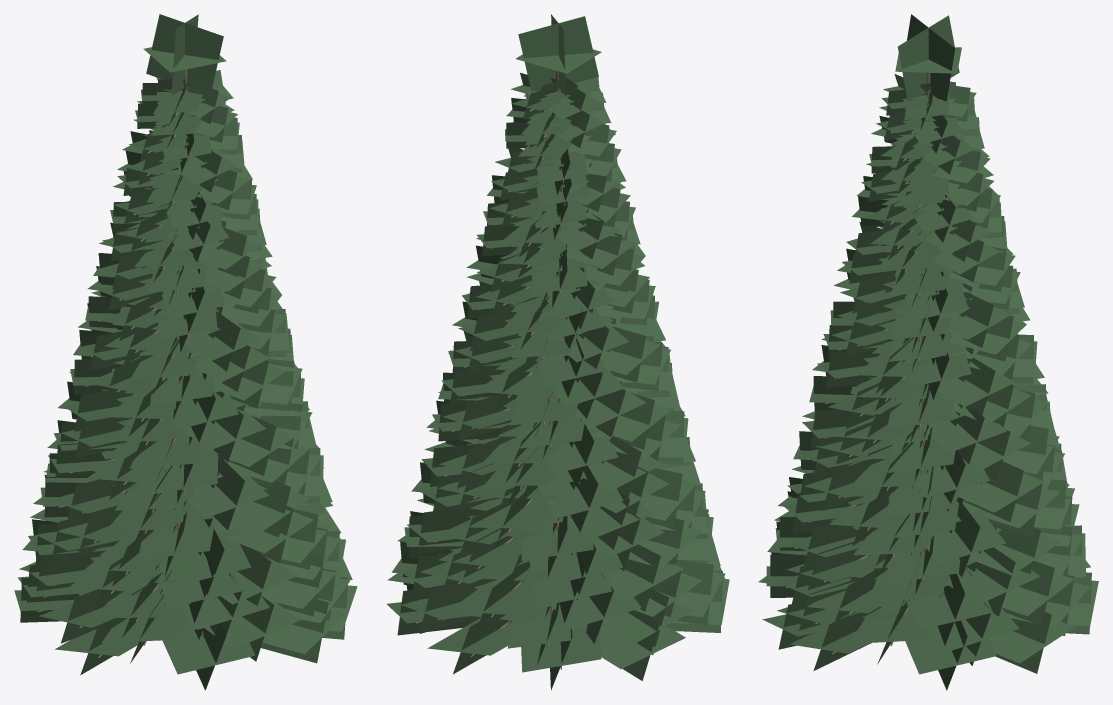
Rendered from SM_Tree_SpruceSmall.fbx.
The picture shows the model from 3 angles, left to right: view 1: azimuth 30°, elevation 25°; view 2: azimuth 150°, elevation 25°; view 3: azimuth 270°, elevation 25°; orthographic projection.
Visible parts, largest first — view 1: SM_Tree_SpruceSmall; view 2: SM_Tree_SpruceSmall; view 3: SM_Tree_SpruceSmall.
Boxes of the visible parts, left/top/right/bottom form: SM_Tree_SpruceSmall: left=14, top=14, right=357, bottom=690; SM_Tree_SpruceSmall: left=387, top=14, right=729, bottom=690; SM_Tree_SpruceSmall: left=758, top=14, right=1098, bottom=690.
Bounding box in the file's own units: 4.44 × 4.42 × 8.83.
